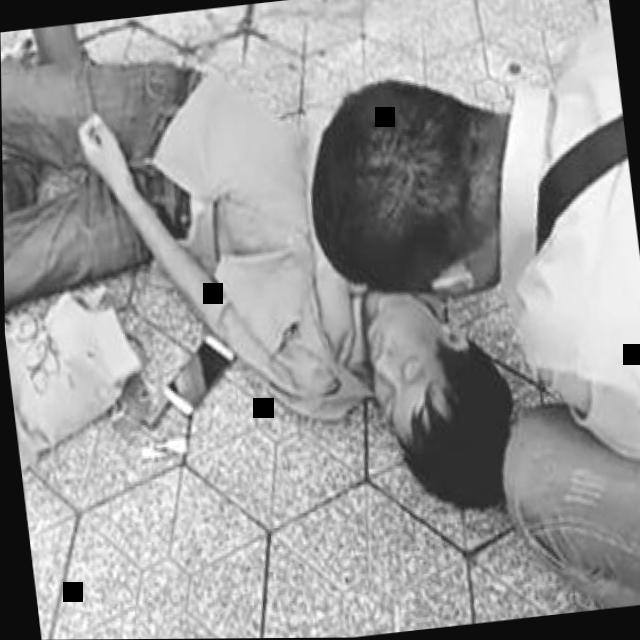Fall-Detected: (0, 0, 523, 603)
